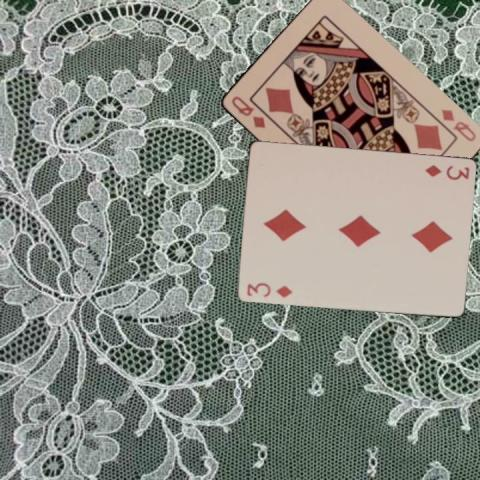3d: (243, 280, 294, 299), (422, 162, 470, 181)
Qd: (438, 106, 478, 143), (228, 93, 267, 129)
